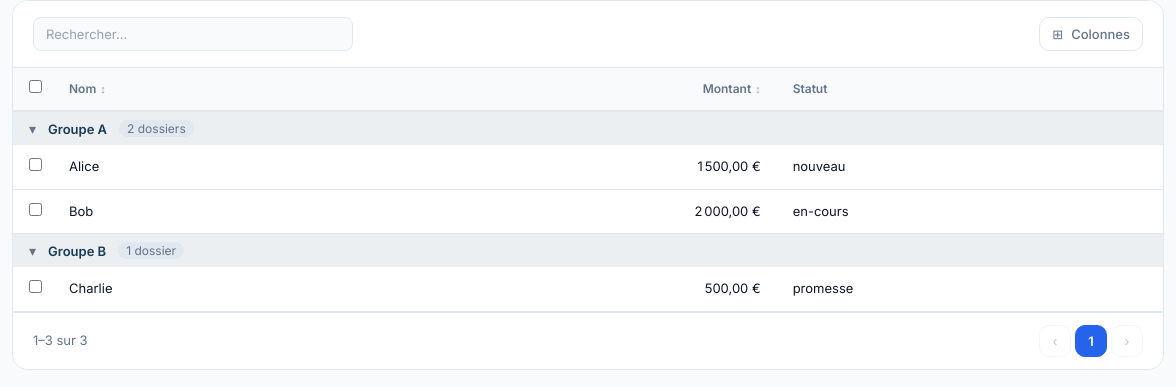
DataGridComponent › grouping › should expand collapsed group on second click
The image size is (1176, 387).
Click the button with class "grid__group-btn" showing "▾ Groupe A 2 dossiers" at (78, 128), box [13,112,1163,145]
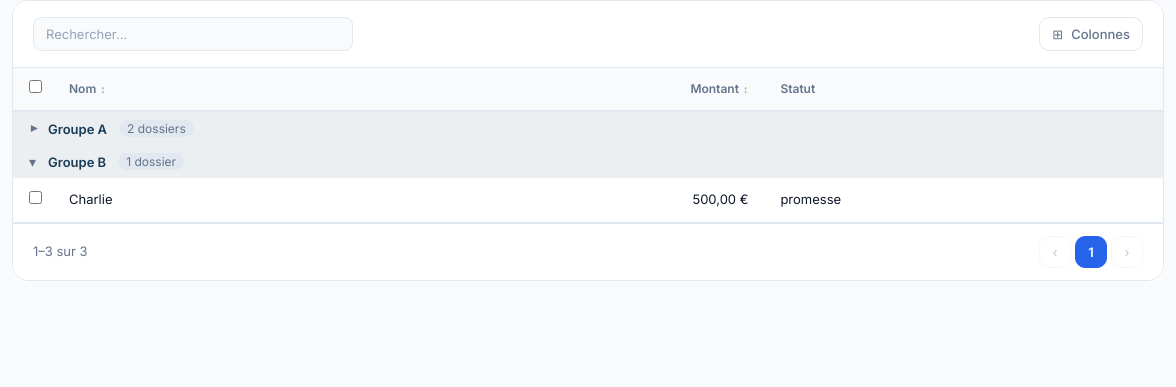
Click the button with class "grid__group-btn" showing "▾ Groupe A 2 dossiers" at (78, 128), box [13,112,1163,145]
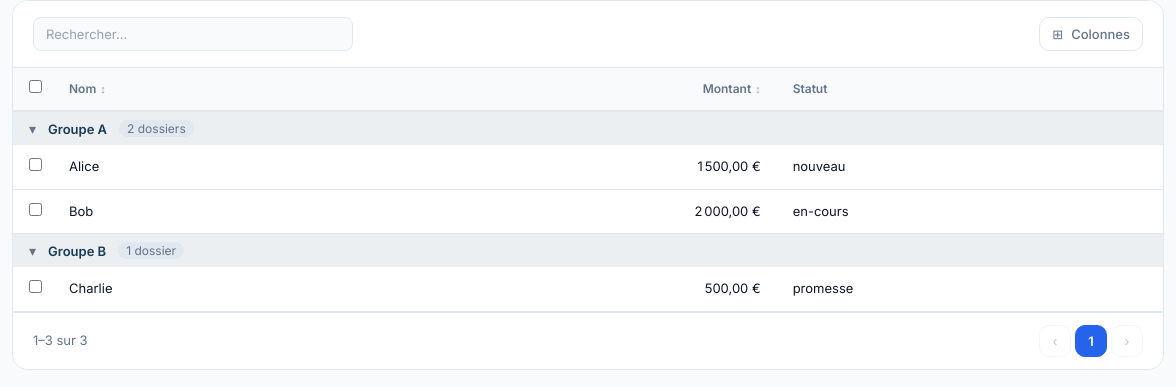
expect the number of rows with class "grid__row" is 3: met, box [13,145,1163,189]; [13,189,1163,234]; [13,267,1163,311]
